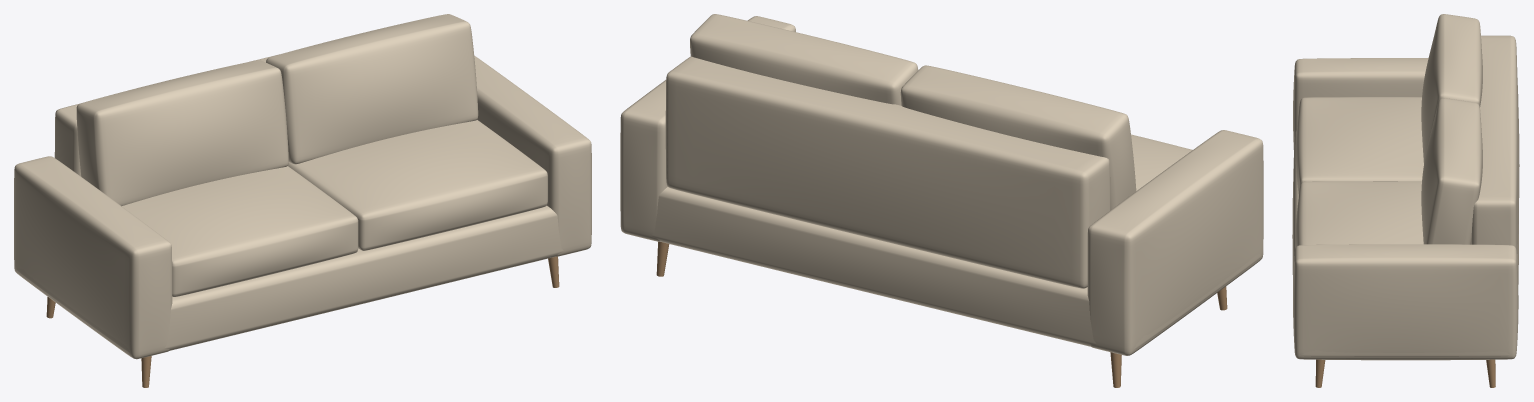
Rendered from sofa_exploded.glb.
3 views of the same model, side by side, from view 1: azimuth 30°, elevation 25°; view 2: azimuth 150°, elevation 25°; view 3: azimuth 270°, elevation 25° (orthographic). The views are drawn at different scales.
Parts seen in each view (by area): view 1: BackCushion_L_Cover, BackCushion_R_Cover, Shell_Base, Shell_Arm_L, SeatCushion_R_Cover, SeatCushion_L_Cover, Shell_Arm_R, Shell_Back; view 2: Shell_Back, Shell_Arm_L, Shell_Base, BackCushion_L_Cover, BackCushion_R_Cover, Shell_Arm_R, SeatCushion_L_Cover; view 3: Shell_Arm_R, SeatCushion_L_Cover, Shell_Back, SeatCushion_R_Cover, BackCushion_R_Cover, Shell_Arm_L, BackCushion_L_Cover, Shell_Base, Leg_BR, Leg_FR.
Boxes of the visible parts, x1,y1,x2,y2 form: BackCushion_L_Cover: (76, 60, 288, 206); BackCushion_R_Cover: (266, 14, 478, 164); Shell_Base: (15, 205, 563, 353); Shell_Arm_L: (14, 156, 172, 359); SeatCushion_R_Cover: (288, 120, 547, 250); SeatCushion_L_Cover: (122, 166, 358, 296); Shell_Arm_R: (474, 56, 591, 256); Shell_Back: (54, 55, 276, 176); Shell_Back: (665, 56, 1110, 288); Shell_Arm_L: (1087, 130, 1263, 355); Shell_Base: (651, 187, 1261, 349); BackCushion_L_Cover: (900, 65, 1136, 210); BackCushion_R_Cover: (690, 14, 918, 105); Shell_Arm_R: (620, 16, 795, 241); SeatCushion_L_Cover: (1131, 134, 1192, 190); Shell_Arm_R: (1293, 244, 1518, 360); SeatCushion_L_Cover: (1295, 97, 1423, 195); Shell_Back: (1471, 35, 1519, 258); SeatCushion_R_Cover: (1295, 181, 1423, 247); BackCushion_R_Cover: (1421, 98, 1482, 244); Shell_Arm_L: (1293, 58, 1518, 149); BackCushion_L_Cover: (1421, 14, 1482, 163); Shell_Base: (1292, 131, 1518, 356); Leg_BR: (1486, 359, 1495, 387); Leg_FR: (1315, 359, 1325, 387).
Bounding box in the file's own units: 1.94 × 0.885 × 0.9011.
